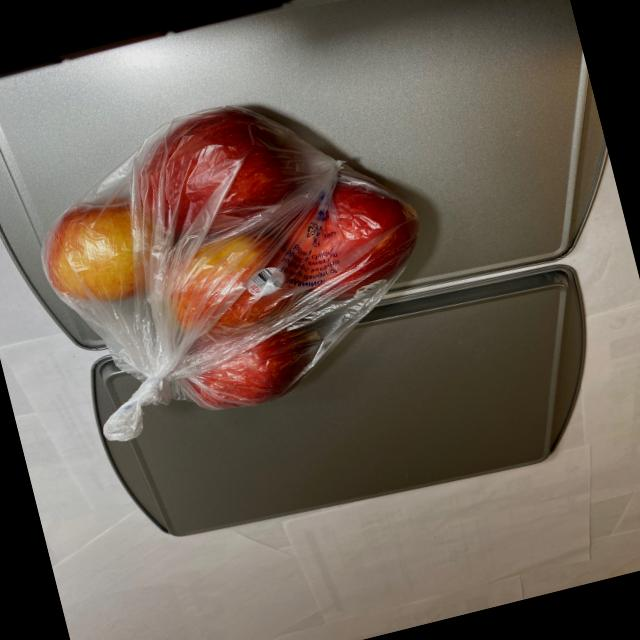apple: (8, 66, 463, 448)
